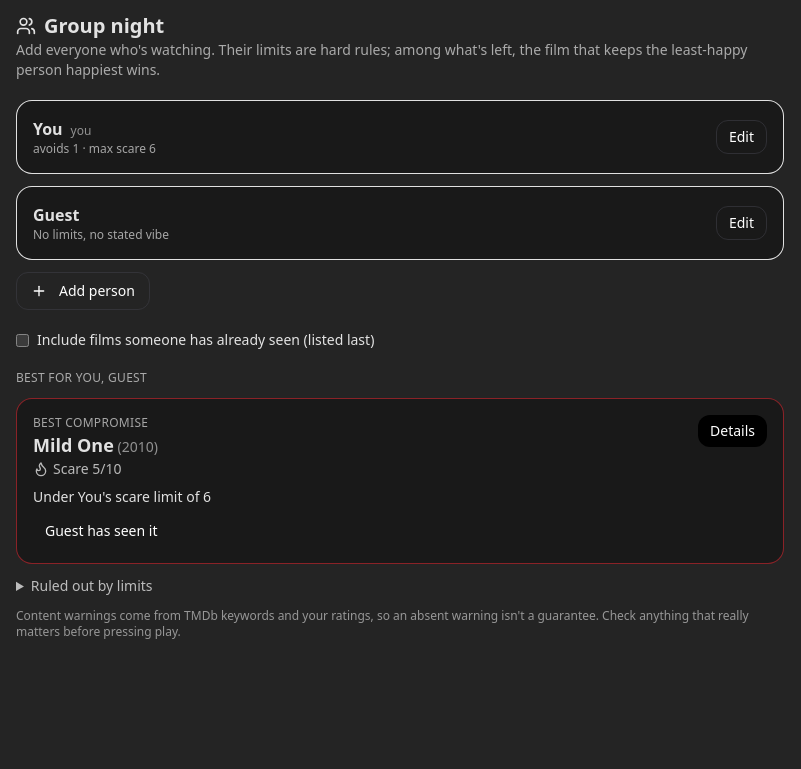
Test: Group night › takes your limits from Settings and says so
The width and height of the screenshot is (801, 769).
What coordinates should you click on to do the following:
click the button "Edit" in the row of "avoids 1 · max scare 6"
I would click on:
 (741, 137)
Its box is [716,120,767,154].
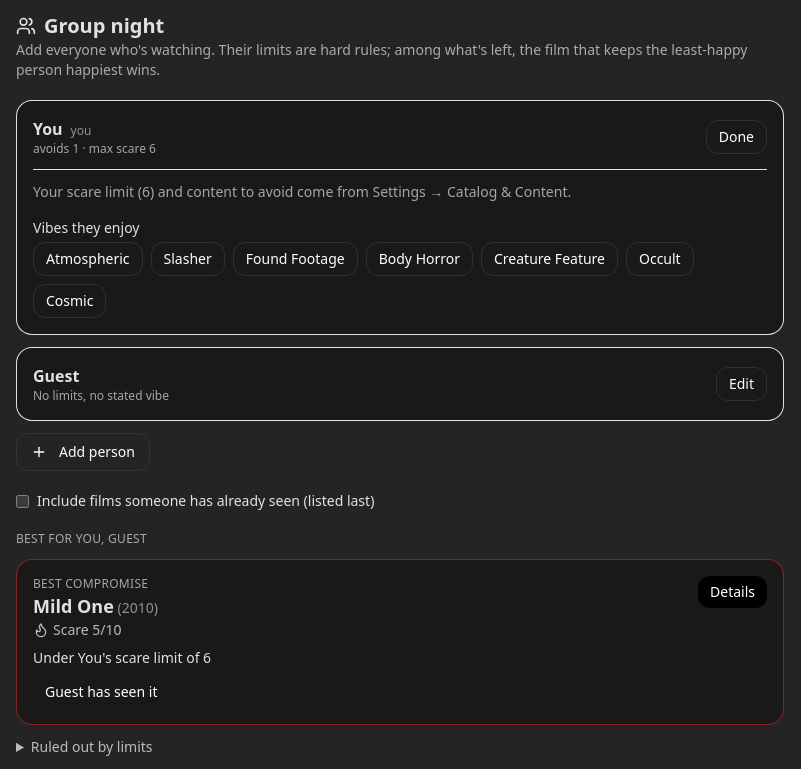
Check: the text "come from Settings" is shown, box [150,182,571,201]
